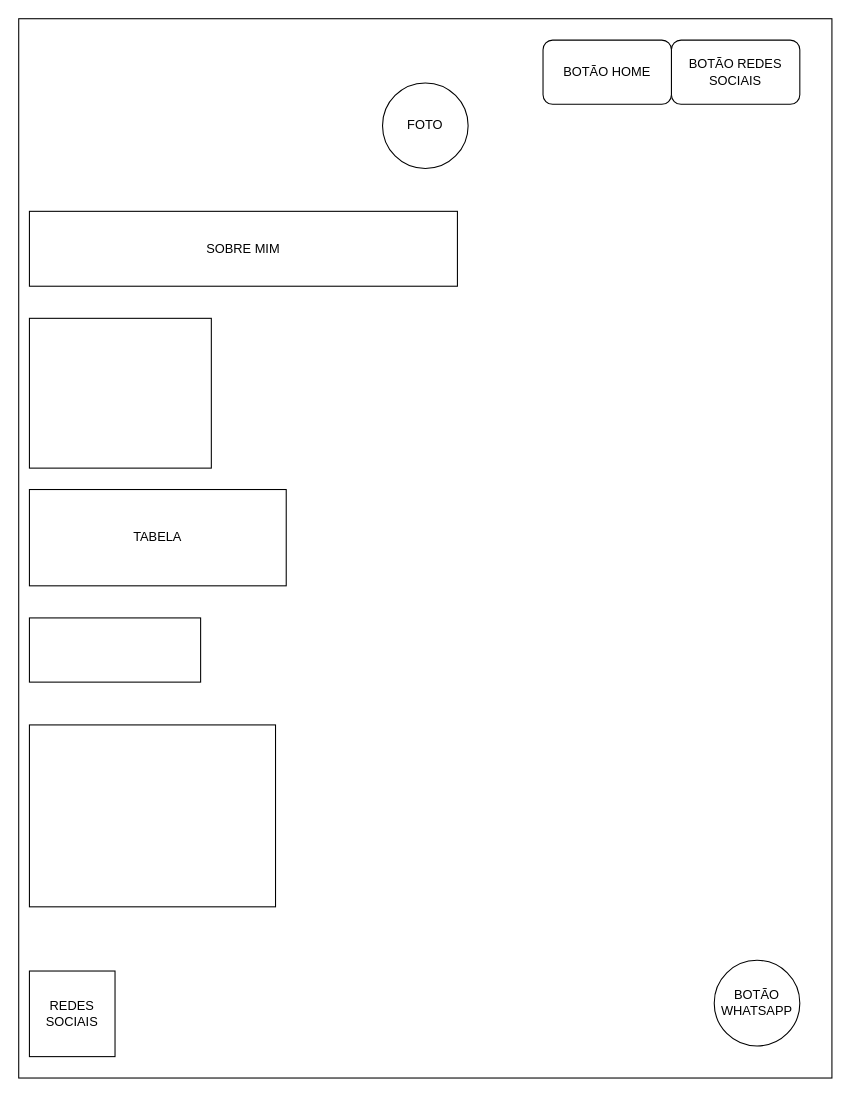
Image size: 851x1097. Some labels were removed from this diagram. The shapes that lost their labels are listed below. From the top down, each one's box as (x1, y1, x2, y2) in pixels, then its label:
(28, 317, 211, 468): QUALIDADES
(28, 617, 201, 682): CONTATO
(28, 724, 276, 907): FORMULARIO
